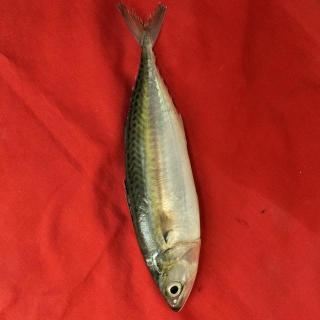Ikan: (102, 1, 218, 316)
